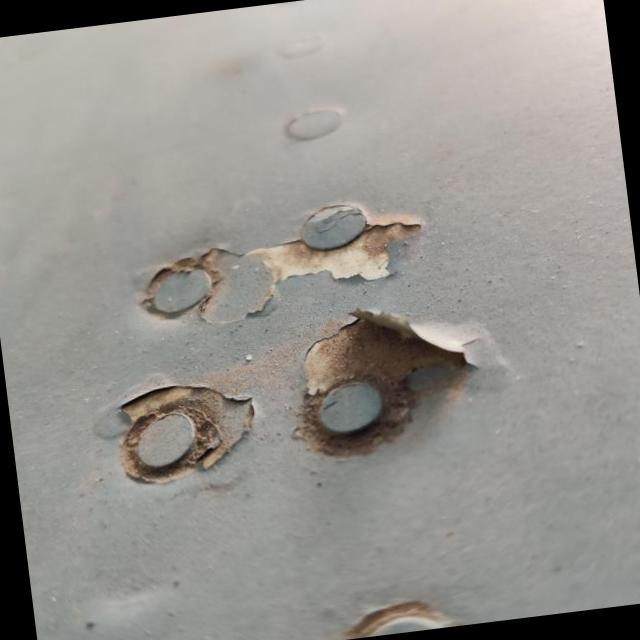Paint-off: (298, 309, 504, 456), (141, 216, 420, 323), (113, 384, 253, 484)
